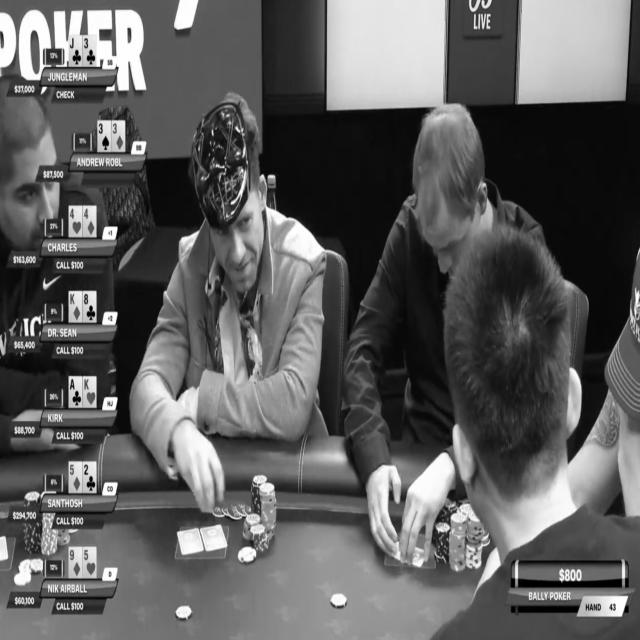2C: (82, 462, 98, 493)
3C: (83, 36, 98, 66)
3D: (111, 120, 126, 152)
3S: (97, 119, 111, 156)
4D: (83, 205, 95, 238)
4H: (68, 205, 83, 236)
5D: (69, 461, 82, 493)
5H: (83, 544, 97, 580)
8C: (81, 290, 97, 323)
9D: (69, 545, 83, 580)
AC: (68, 375, 82, 409)
JC: (69, 34, 82, 67)
KD: (69, 291, 81, 324)
KH: (82, 377, 98, 409)
